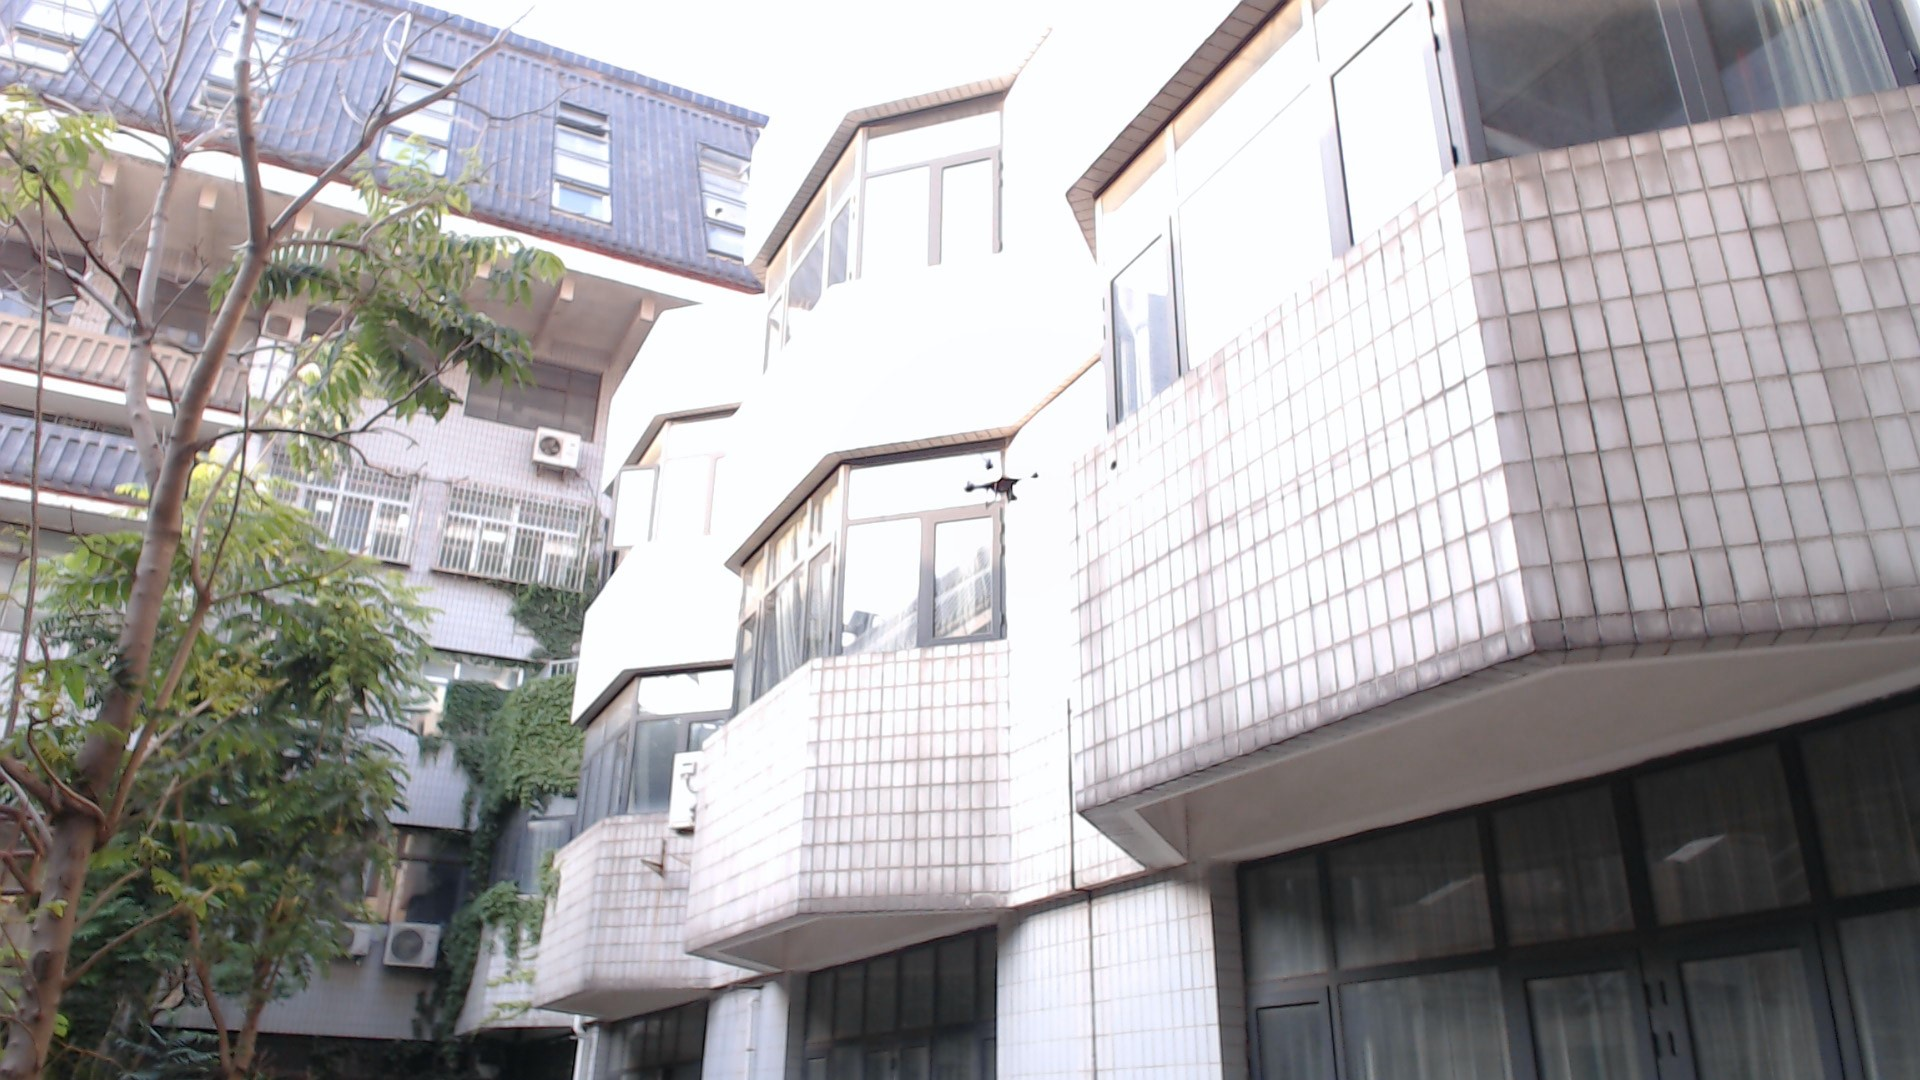drone: (949, 450, 1058, 510)
